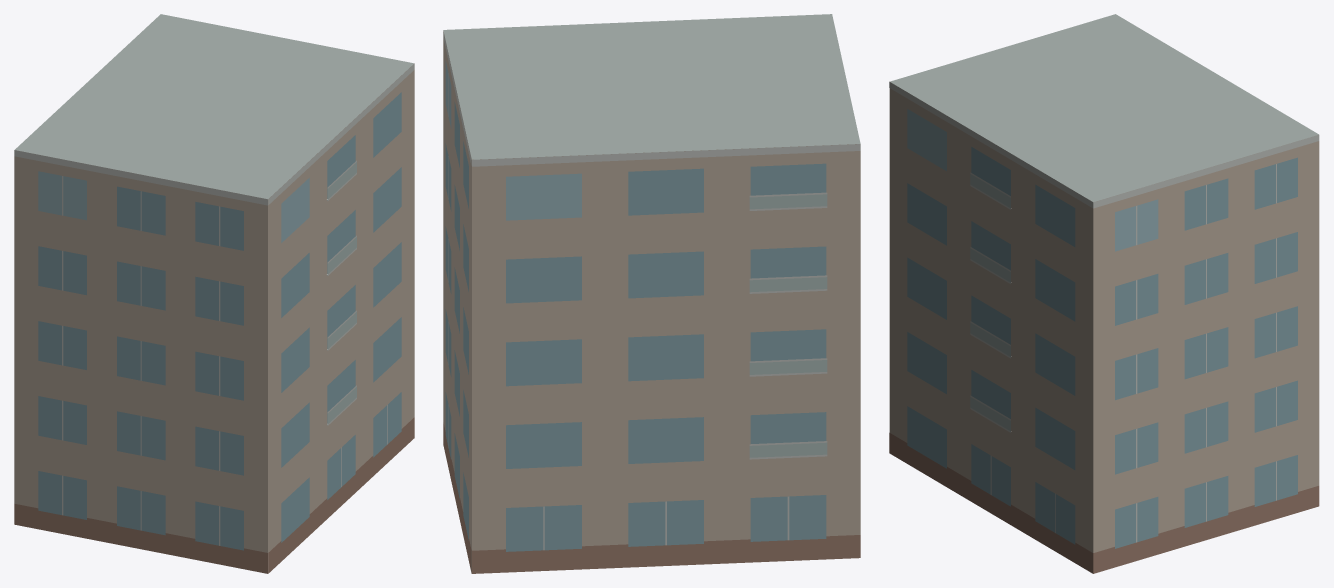
The model's file is survey-upis-32711829.glb.
The picture shows the model from 3 angles, left to right: view 1: azimuth 30°, elevation 25°; view 2: azimuth 150°, elevation 25°; view 3: azimuth 270°, elevation 25°; orthographic projection. The views are drawn at different scales.
Parts seen in each view (by area): view 1: survey-upis-32711829.tmp; view 2: survey-upis-32711829.tmp; view 3: survey-upis-32711829.tmp.
Part boxes in pixels (x1,y1,x2,y2): survey-upis-32711829.tmp: [14, 14, 414, 573]; survey-upis-32711829.tmp: [443, 14, 860, 573]; survey-upis-32711829.tmp: [889, 14, 1319, 573].
Size of the model in its own units: 15.65 by 14.4 by 15.1.
